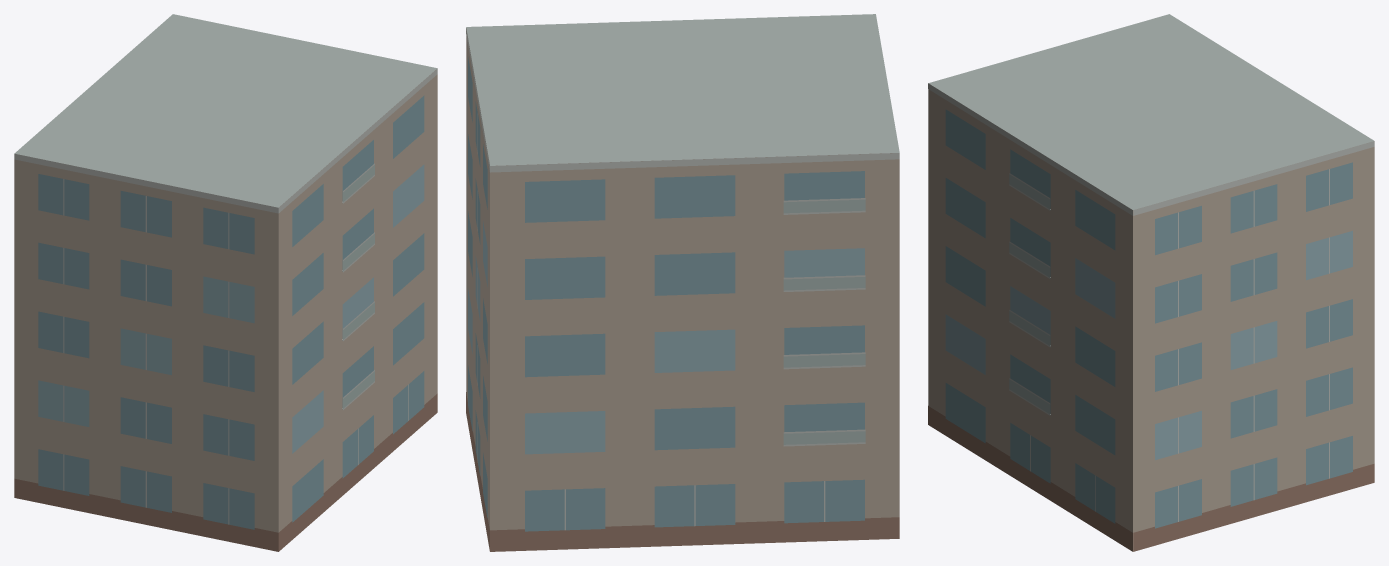
File: survey-upis-32888345.glb
3 views of the same model, side by side, from view 1: azimuth 30°, elevation 25°; view 2: azimuth 150°, elevation 25°; view 3: azimuth 270°, elevation 25° (orthographic). The views are drawn at different scales.
Parts seen in each view (by area): view 1: survey-upis-32888345.tmp; view 2: survey-upis-32888345.tmp; view 3: survey-upis-32888345.tmp.
Part boxes in pixels (bbox=[...]): survey-upis-32888345.tmp: bbox=[14, 14, 437, 551]; survey-upis-32888345.tmp: bbox=[466, 14, 899, 551]; survey-upis-32888345.tmp: bbox=[928, 14, 1374, 551].
Size of the model in its own units: 17.74 by 14.4 by 17.06.
